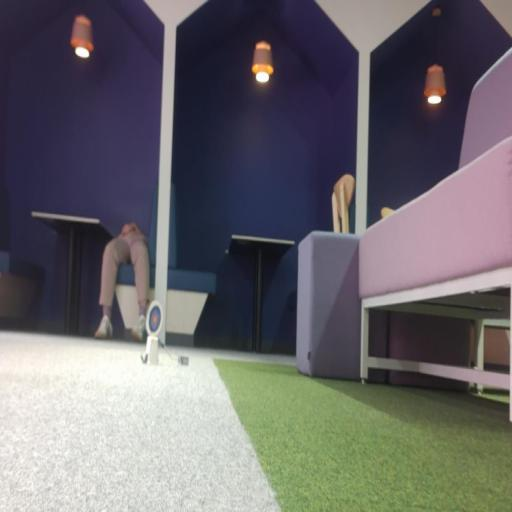target: (146, 300, 162, 337)
